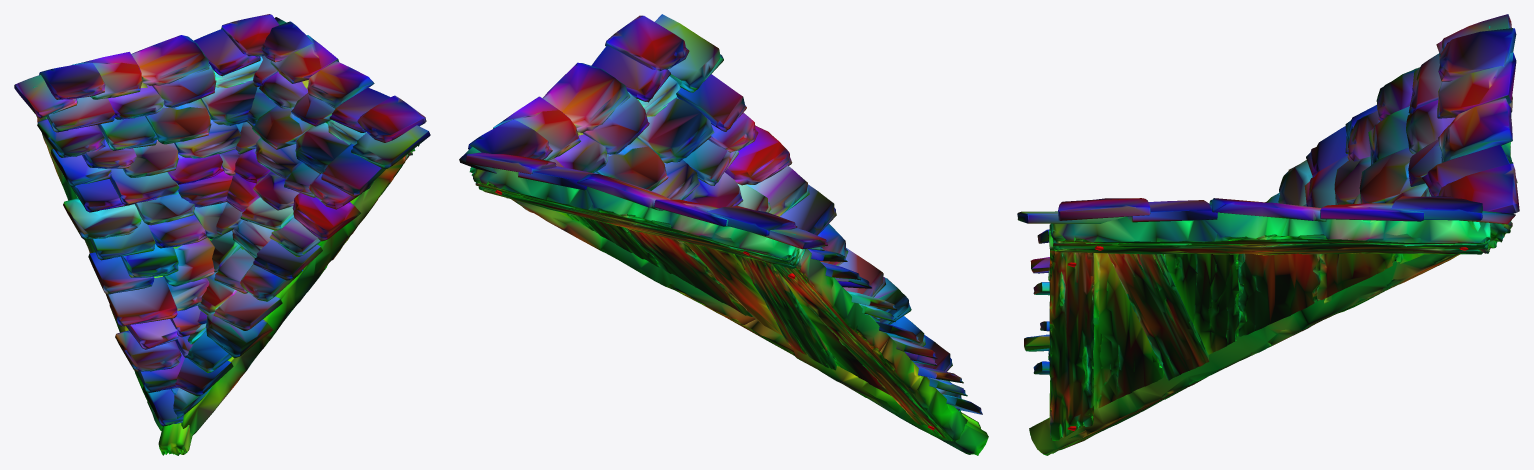
The model's file is SM_Stone_RoofCorner_In.fbx.
3 renders of one model, left to right at view 1: azimuth 30°, elevation 25°; view 2: azimuth 150°, elevation 25°; view 3: azimuth 270°, elevation 25°, orthographic. The views are drawn at different scales.
Parts seen in each view (by area): view 1: SM_Stone_RoofCorner_In_LOD0; view 2: SM_Stone_RoofCorner_In_LOD0; view 3: SM_Stone_RoofCorner_In_LOD0.
Part boxes in pixels (left/top/right/bottom): SM_Stone_RoofCorner_In_LOD0: left=14, top=14, right=430, bottom=455; SM_Stone_RoofCorner_In_LOD0: left=459, top=14, right=988, bottom=455; SM_Stone_RoofCorner_In_LOD0: left=1017, top=14, right=1519, bottom=455.
Size of the model in its own units: 326 by 329 by 318.
